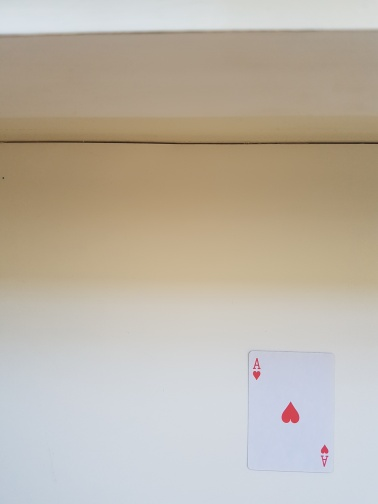ace: (244, 350, 337, 475)
